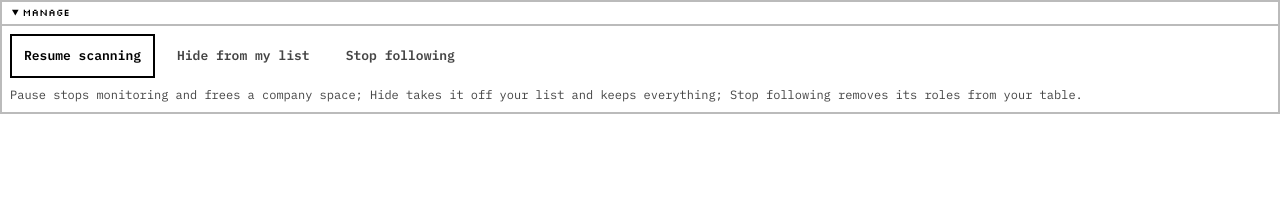
Test case: keeps a capacity refusal in the open menu with an Account recovery link
Click the button "Resume scanning" at coordinates (82, 56), box [10,34,155,78]
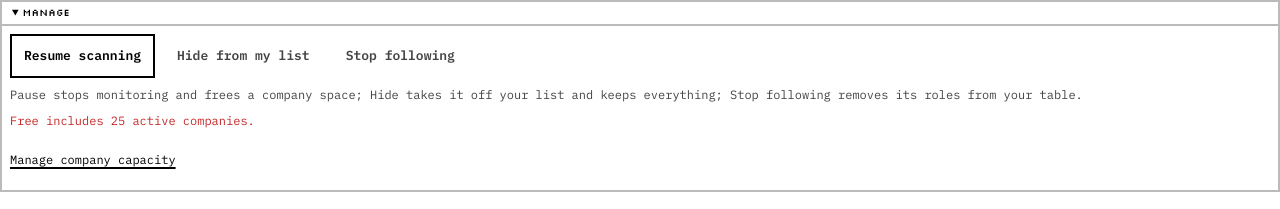
Expected: the message "Free includes 25 active companies." is shown, [10,113,255,128]
Expected: the link to "/account#plan-and-credits" reads "Manage company capacity", [10,152,176,167]
